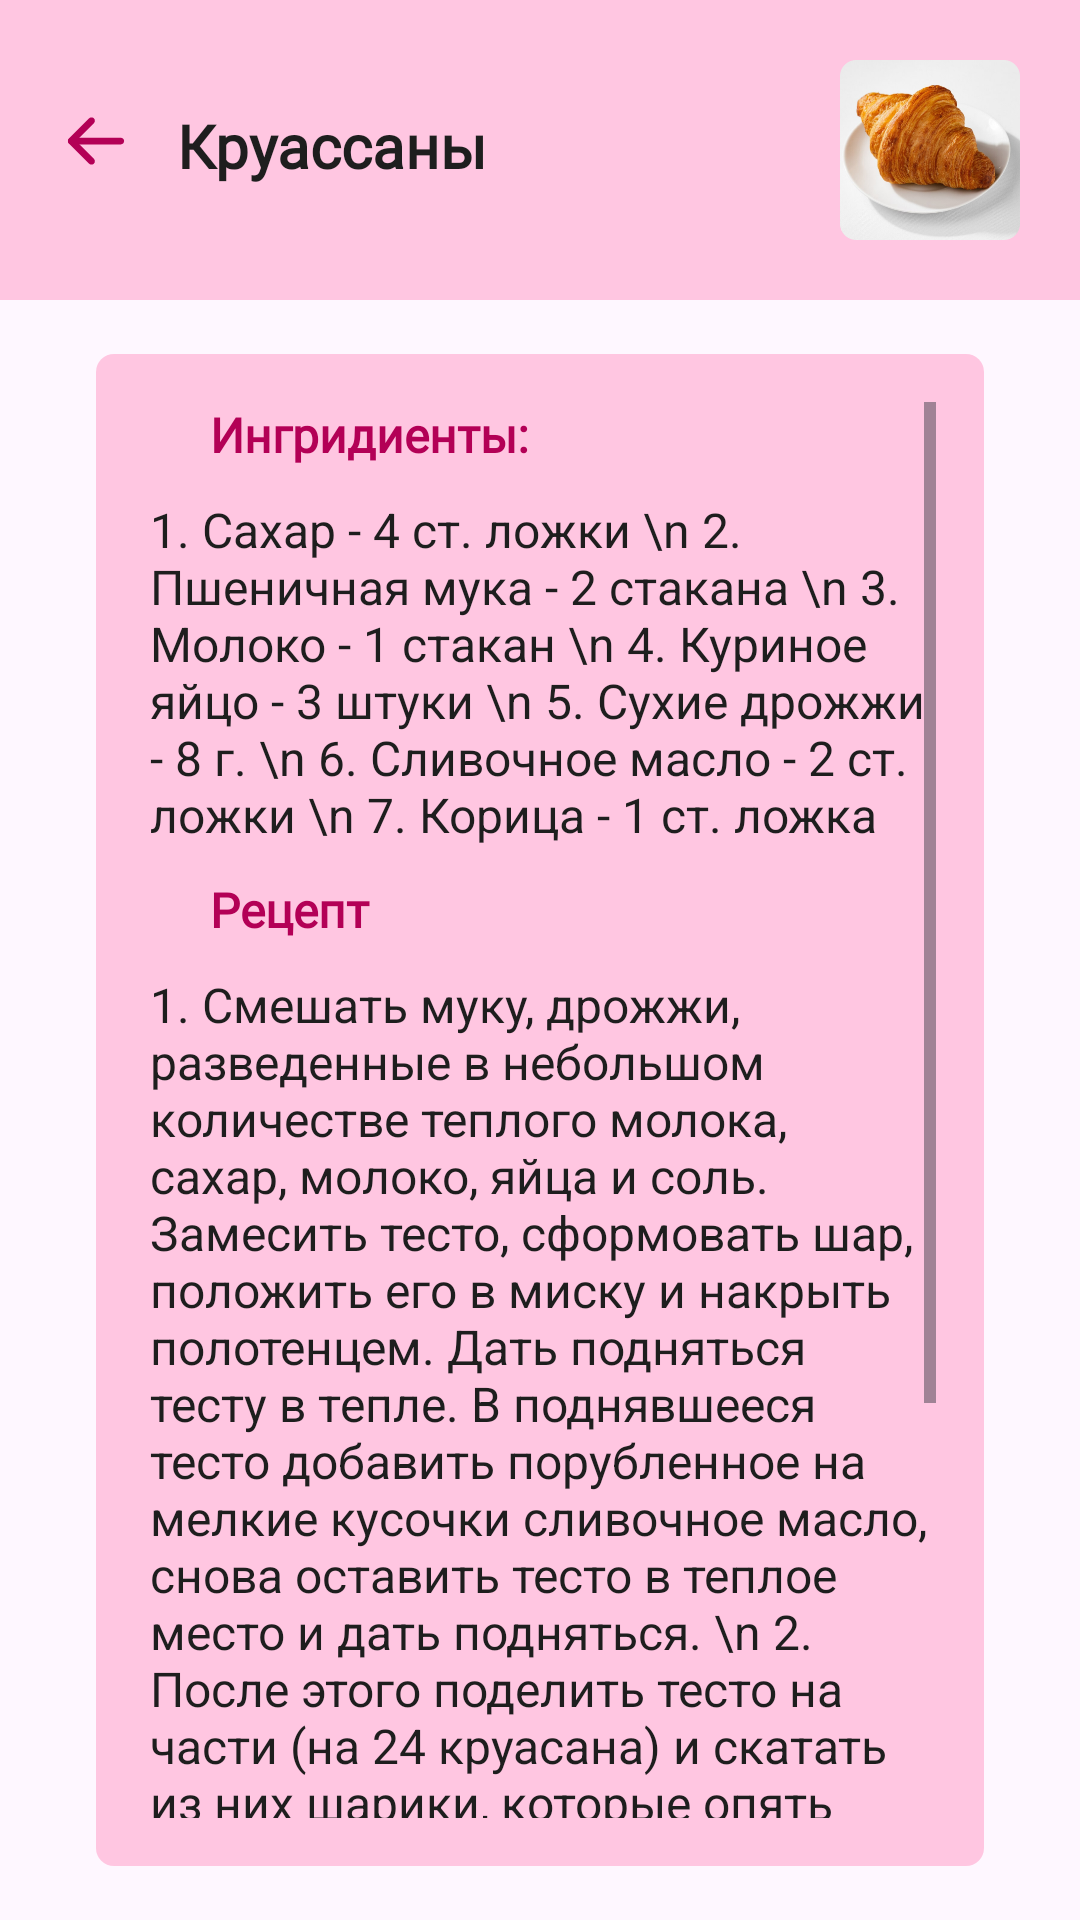

Icon bounding boxes for this 1080x1920 phone screenshot, format (x1, y1, x2, y2):
second back: (68, 117, 124, 165)
